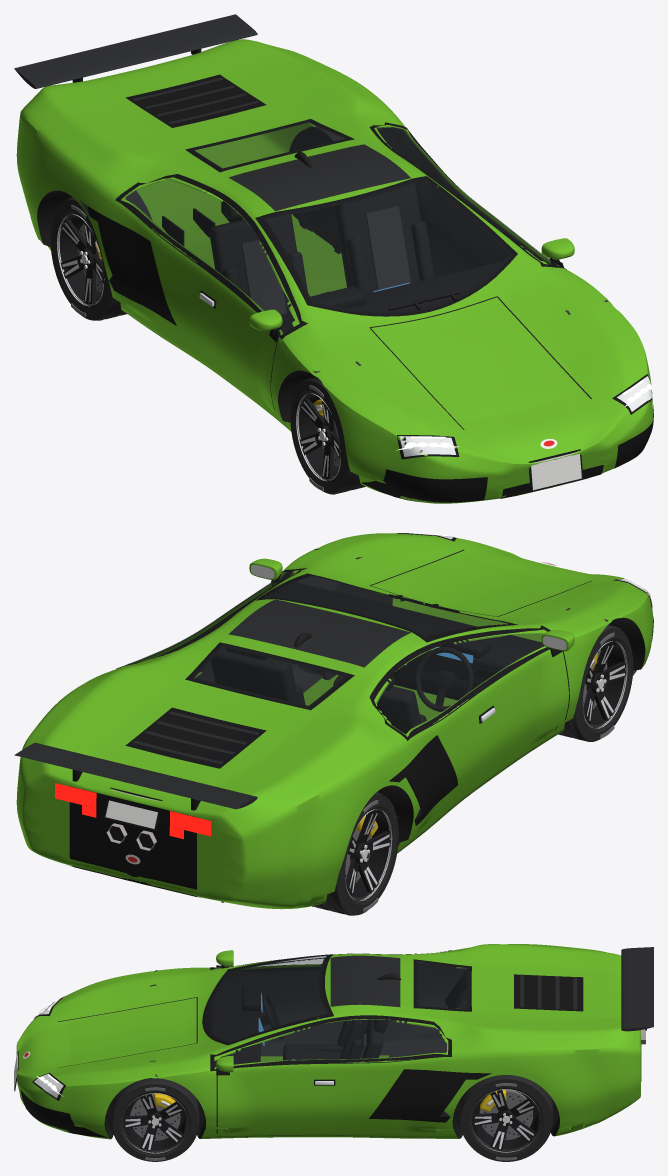
The model's file is revuelto.glb.
The picture shows the model from 3 angles, top to bottom: view 1: azimuth 30°, elevation 25°; view 2: azimuth 150°, elevation 25°; view 3: azimuth 270°, elevation 25°; orthographic projection. The views are drawn at different scales.
Visible parts, largest first — view 1: Body, Wheel_RR, Wheel_FR; view 2: Body, Wheel_RR, Wheel_FR; view 3: Body, Wheel_RL, Wheel_FL.
Part boxes in pixels (left/top/right/bottom): Body: left=14, top=14, right=653, bottom=503; Wheel_RR: left=50, top=197, right=126, bottom=320; Wheel_FR: left=290, top=377, right=365, bottom=494; Body: left=14, top=533, right=653, bottom=909; Wheel_RR: left=312, top=792, right=398, bottom=915; Wheel_FR: left=558, top=625, right=633, bottom=741; Body: left=14, top=944, right=653, bottom=1139; Wheel_RL: left=459, top=1075, right=552, bottom=1161; Wheel_FL: left=111, top=1078, right=199, bottom=1161.
Size of the model in its own units: 2.16 by 1.21 by 5.07.
